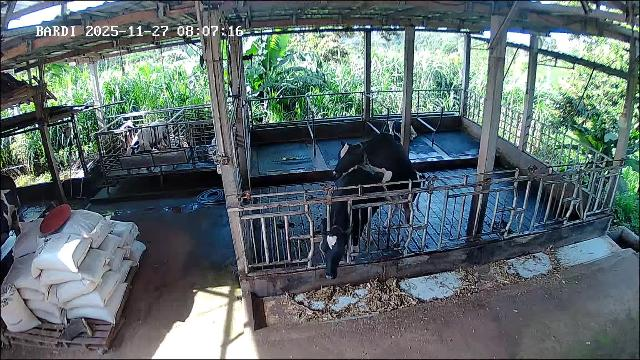mounting: (334, 131, 422, 245)
